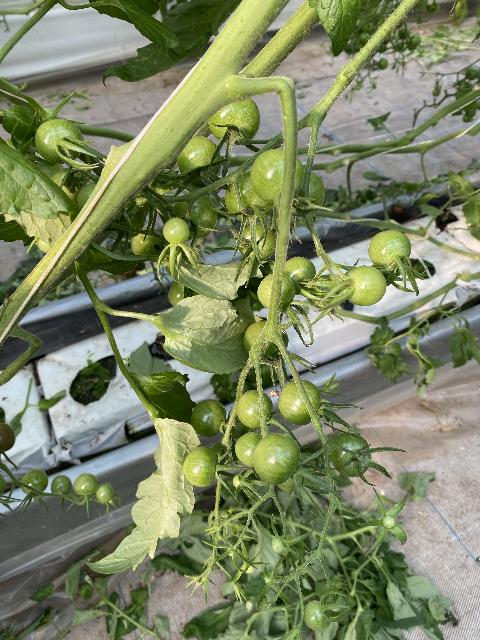l_green: (250, 149, 304, 205), (225, 170, 275, 221), (207, 97, 260, 145), (252, 433, 300, 486), (176, 135, 222, 186), (34, 119, 84, 165), (173, 191, 218, 240), (278, 380, 322, 425), (329, 432, 372, 477), (243, 319, 289, 360), (341, 265, 386, 306), (291, 168, 325, 220), (368, 230, 412, 270), (238, 221, 277, 262), (182, 446, 219, 487), (235, 389, 273, 428), (189, 399, 226, 437), (109, 200, 145, 239), (257, 273, 295, 308), (130, 227, 165, 262), (49, 168, 85, 202), (284, 257, 316, 294), (235, 432, 264, 467), (303, 600, 333, 631), (21, 469, 48, 497), (277, 464, 303, 493), (163, 217, 189, 243), (77, 183, 98, 210), (74, 473, 98, 496), (51, 475, 72, 497), (168, 281, 184, 306), (95, 483, 115, 503), (271, 537, 285, 553), (382, 515, 395, 529), (234, 475, 246, 488), (242, 562, 255, 574)
l_half_ripened: (0, 422, 16, 453)
